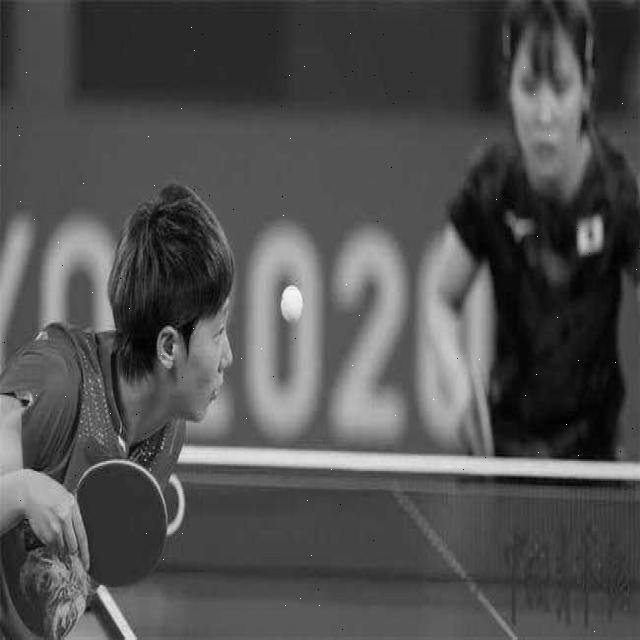ping-pong-ball: (276, 280, 306, 324)
